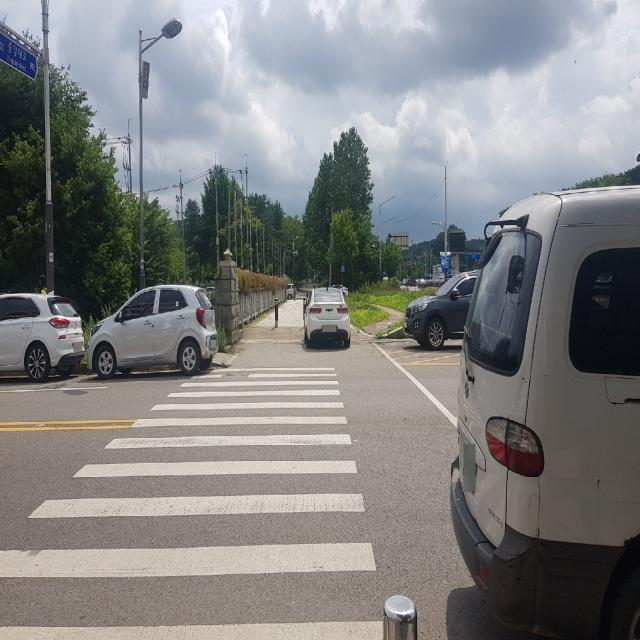횡단보도: (0, 366, 383, 640)
